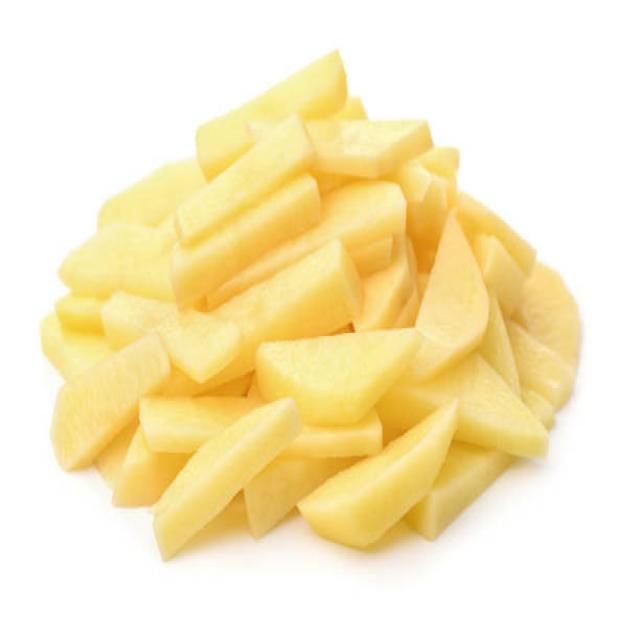Potato: (303, 394, 464, 557), (152, 394, 294, 558), (179, 114, 320, 248), (48, 330, 170, 473), (258, 322, 426, 412), (417, 200, 490, 377), (316, 104, 436, 188)
